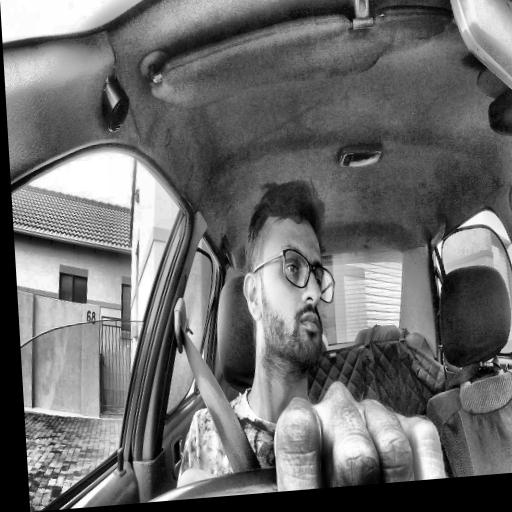awake: (236, 176, 341, 383)
